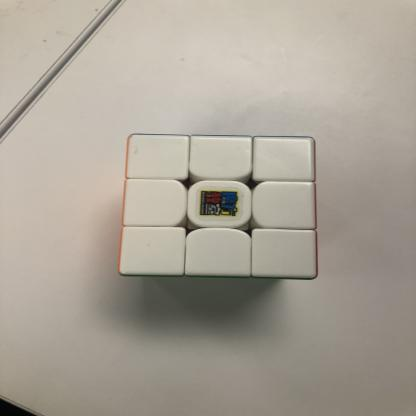SolvedCube: (110, 127, 338, 291)
